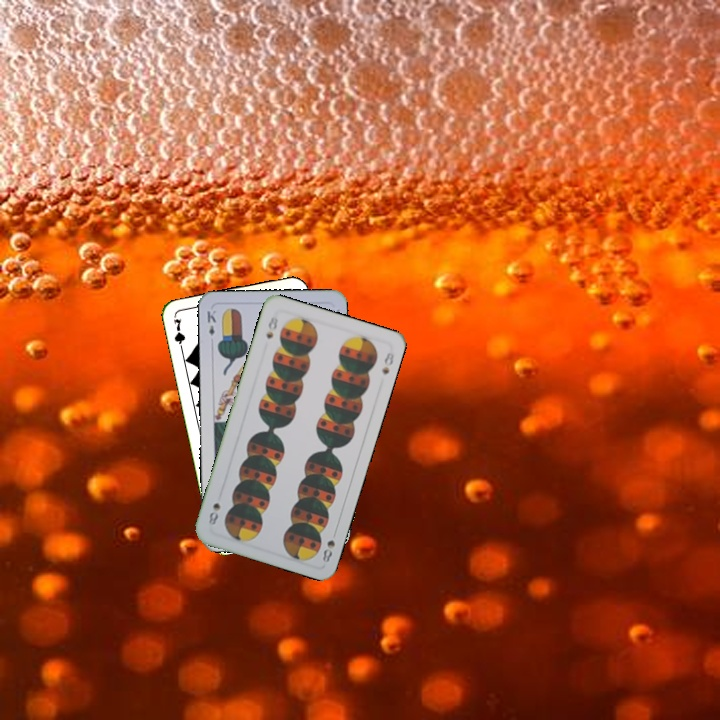EK: (203, 306, 219, 338)
G7: (170, 314, 188, 355)
S8: (318, 526, 340, 565), (262, 311, 281, 341)
